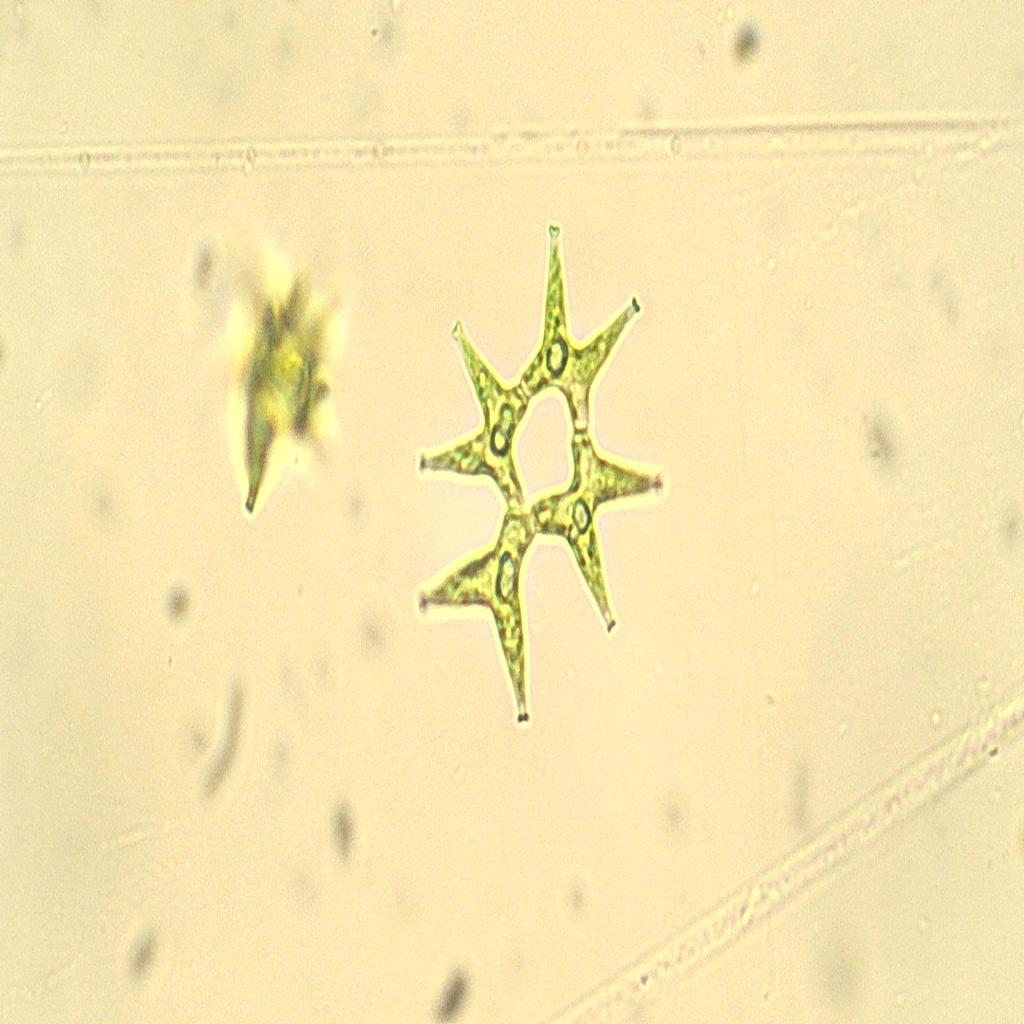Pediastrum_CT: (403, 190, 667, 730)
